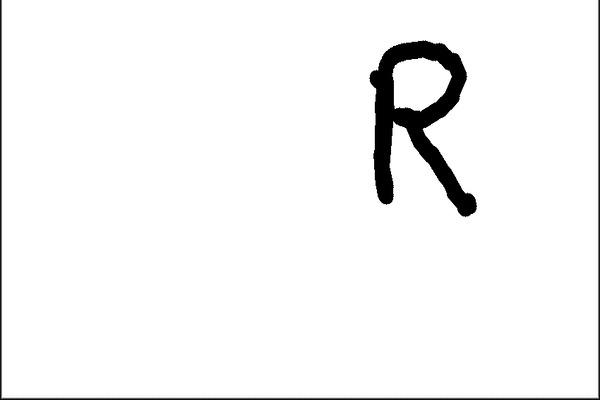R: (352, 29, 495, 225)
